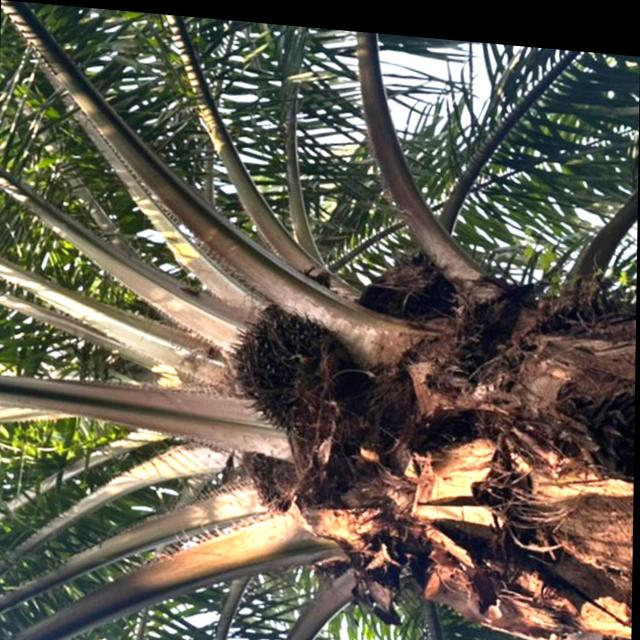unripe: (218, 286, 351, 438)
